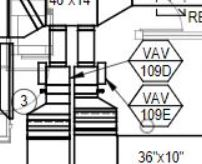VAV: (71, 58, 108, 96), (36, 60, 72, 94)
